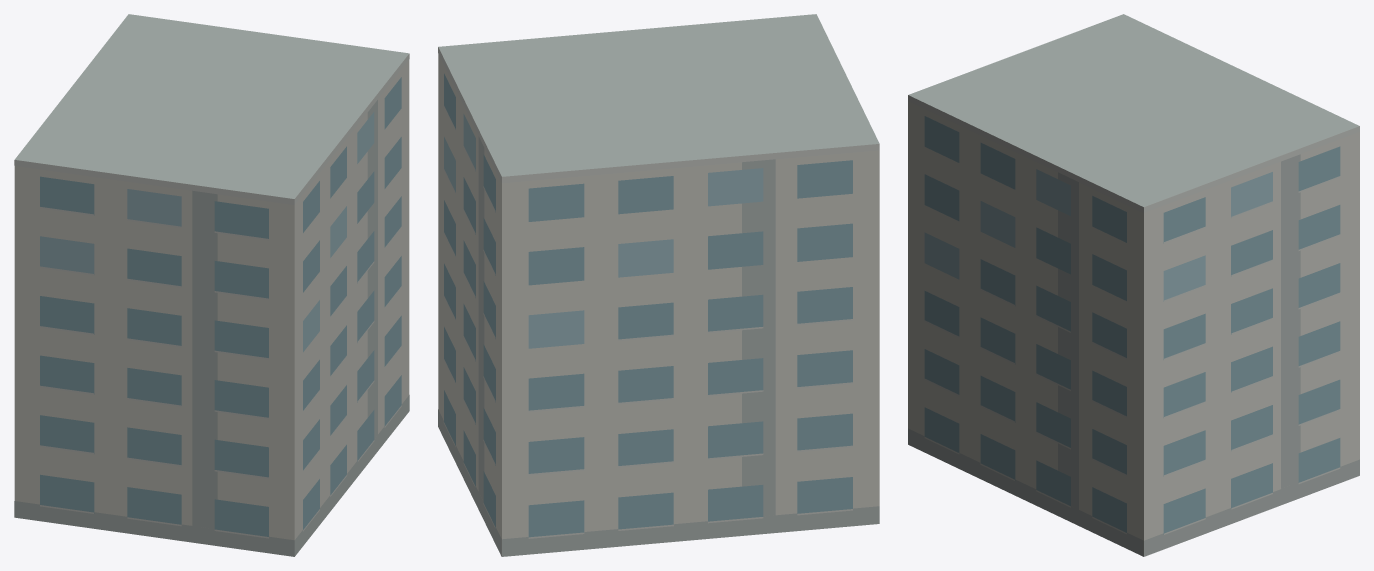
File: survey-upis-32952310.glb
3 renders of one model, left to right at view 1: azimuth 30°, elevation 25°; view 2: azimuth 150°, elevation 25°; view 3: azimuth 270°, elevation 25°, orthographic. The views are drawn at different scales.
Parts seen in each view (by area): view 1: survey-upis-32952310.tmp; view 2: survey-upis-32952310.tmp; view 3: survey-upis-32952310.tmp.
Part boxes in pixels (left/top/right/bottom): survey-upis-32952310.tmp: left=14, top=14, right=409, bottom=556; survey-upis-32952310.tmp: left=438, top=14, right=879, bottom=556; survey-upis-32952310.tmp: left=908, top=14, right=1359, bottom=556.
Bounding box in the file's own units: 17.32 × 14.6 × 17.1.
